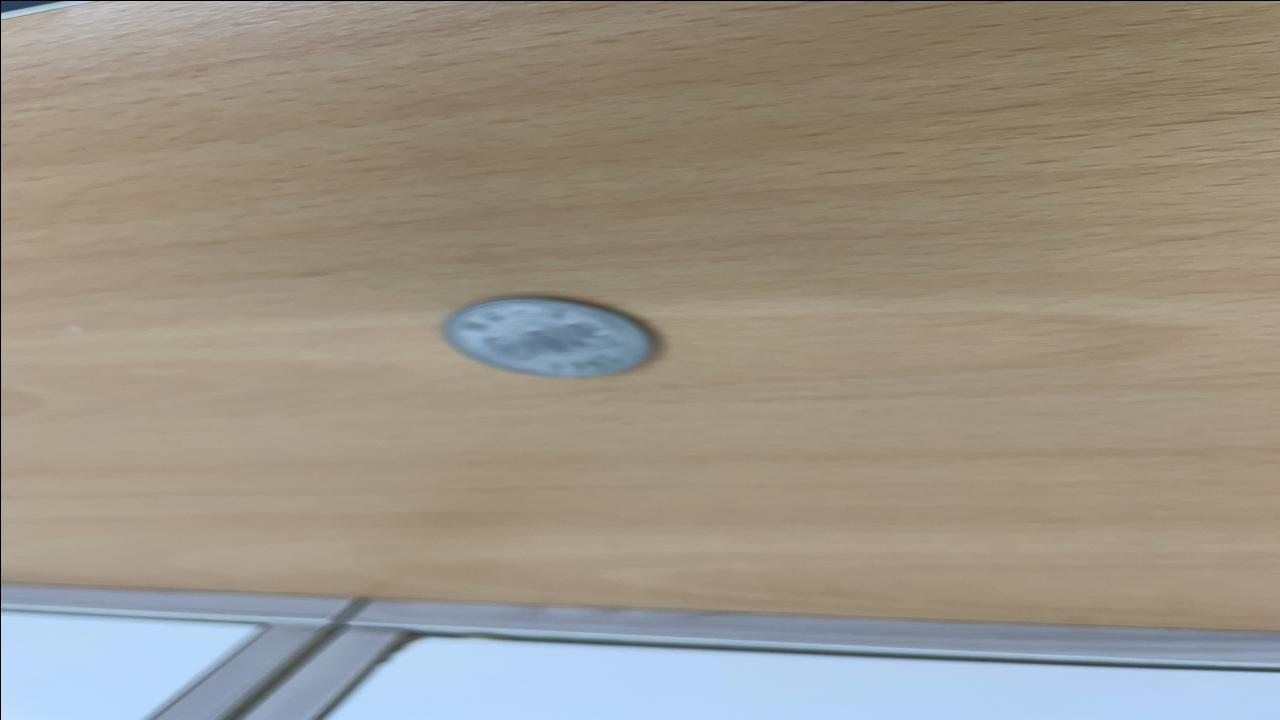coin: (430, 292, 662, 380)
